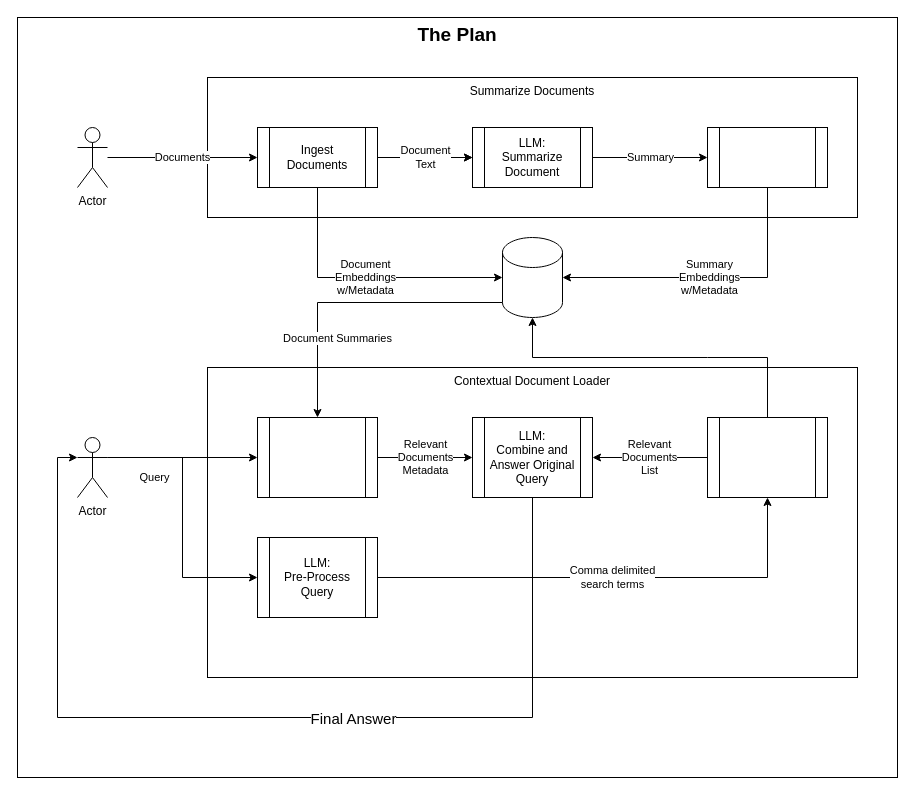
This 915x795 diagram has some shape labels left out. Here are the shapes that lost their labels. From the top down, the centre of each, then its label:
(x=767, y=157): Ingest Summary
(x=532, y=277): Vector DB
(x=317, y=457): LLM: Query Document Summaries
(x=767, y=457): Search Vector DB
